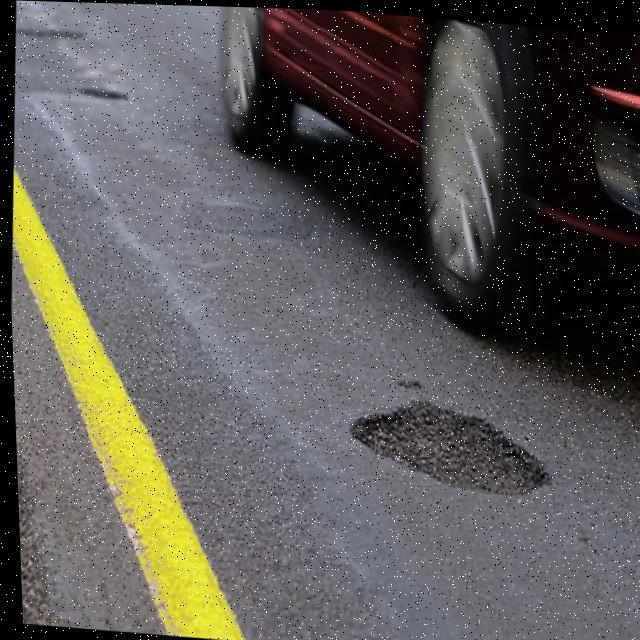Pothole: (352, 402, 546, 494), (79, 89, 128, 99)
